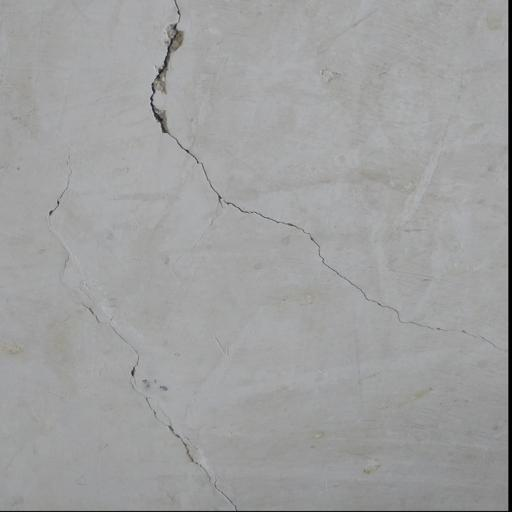minor_crack: (144, 3, 506, 356), (26, 158, 246, 512)
